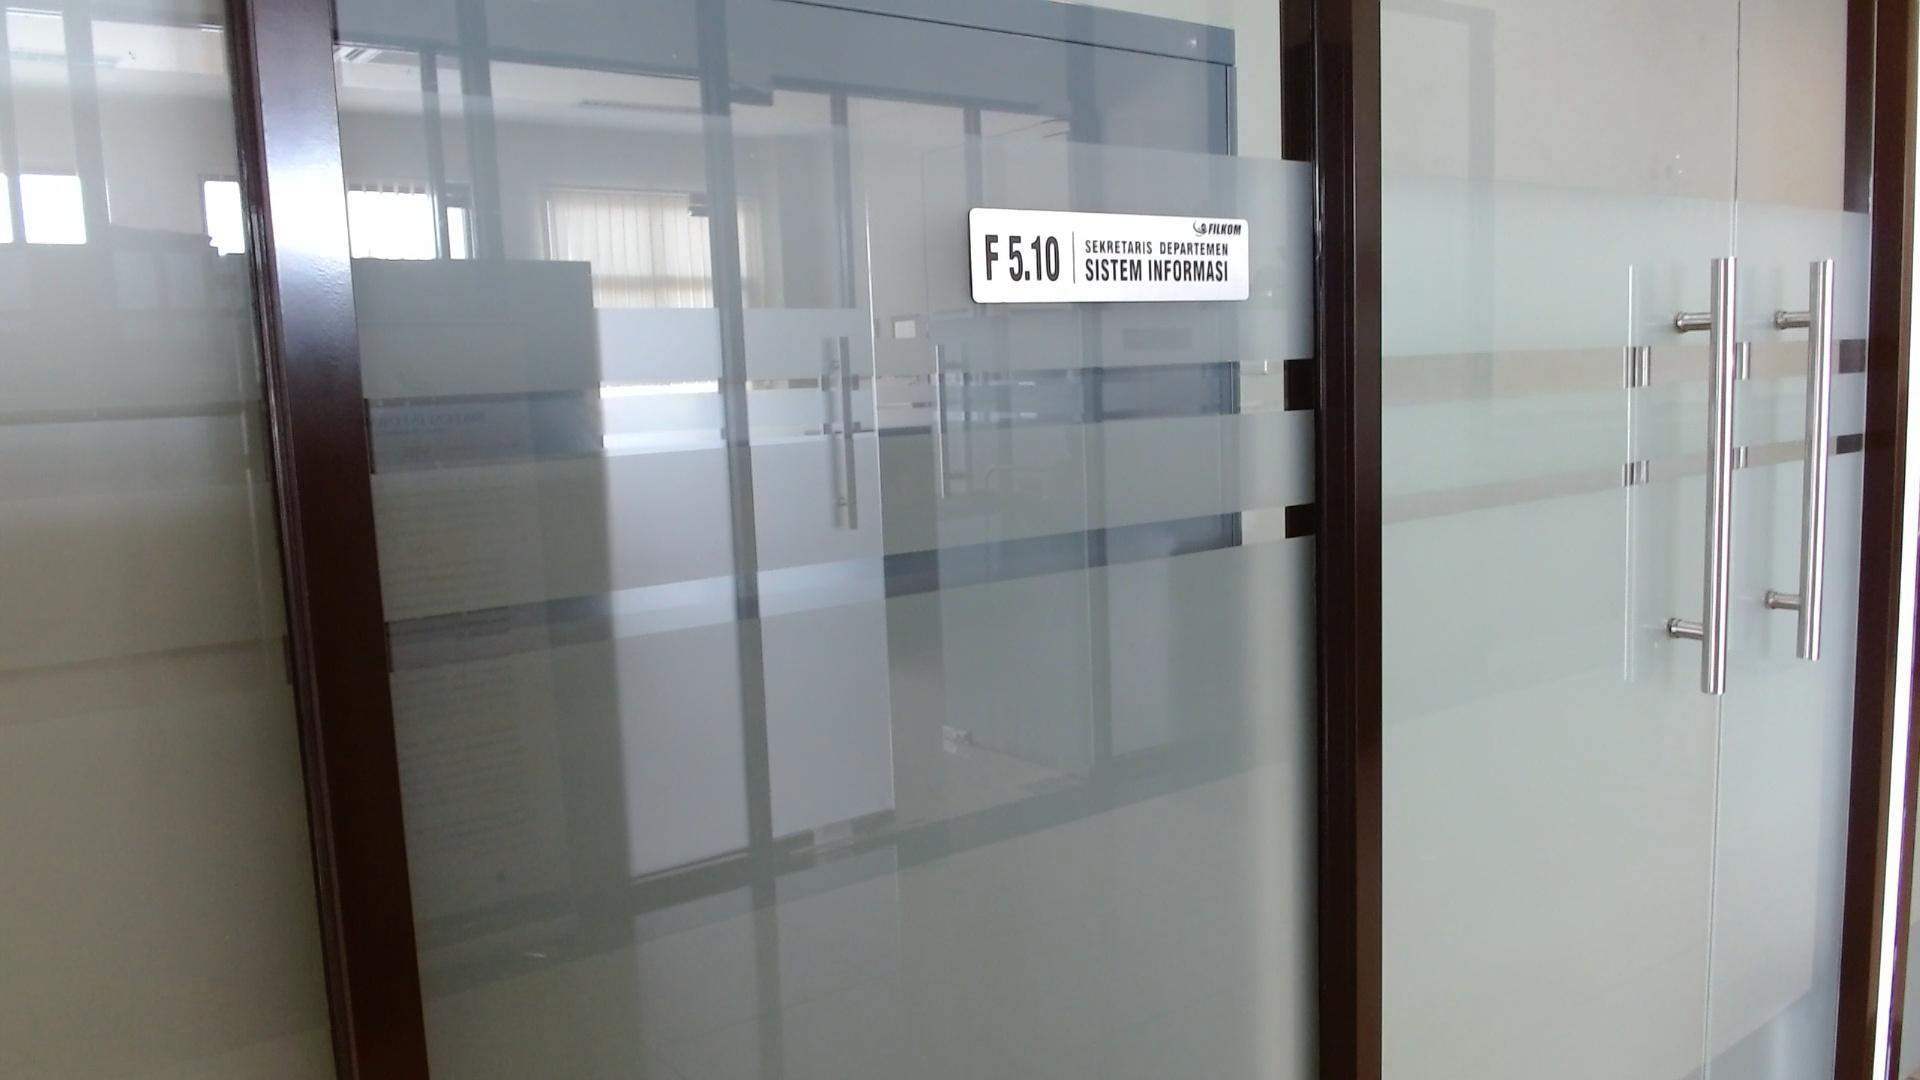plate: (968, 207, 1250, 305)
